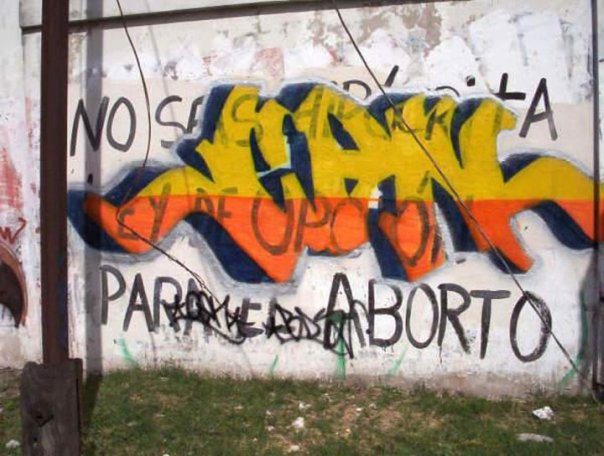graffity: (61, 80, 602, 287), (86, 265, 555, 368), (43, 85, 215, 158), (1, 210, 37, 333)
